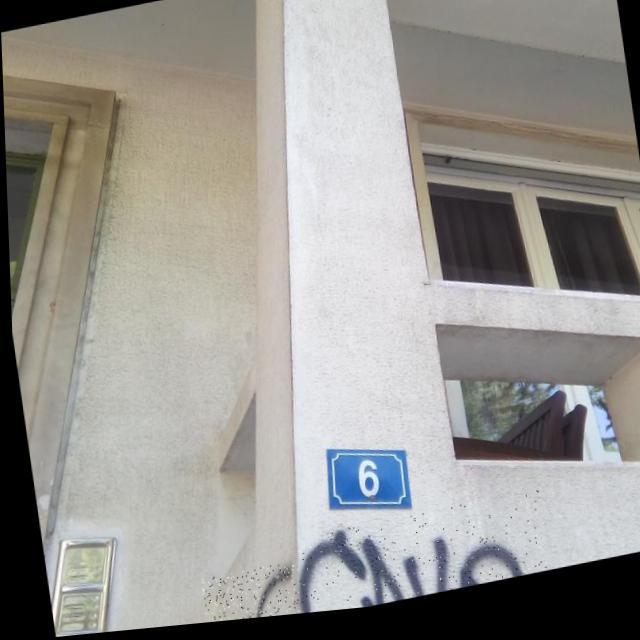-: (284, 498, 546, 620), (194, 566, 296, 627)
